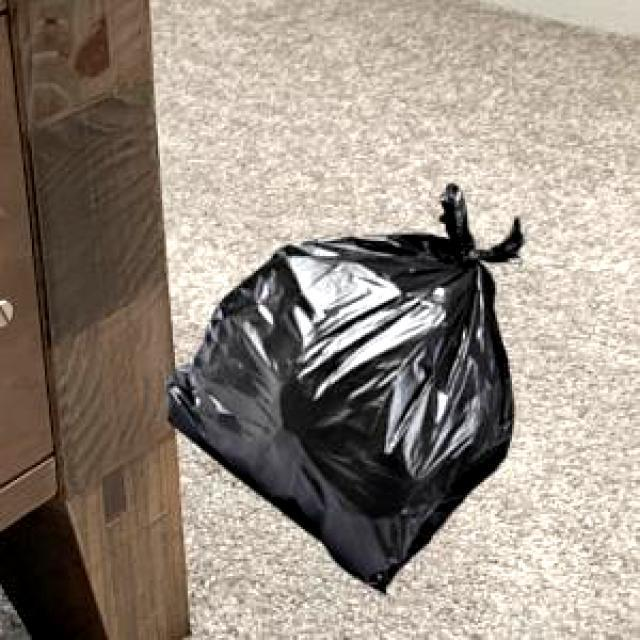Bolsa-de-plastico: (118, 170, 528, 603)
